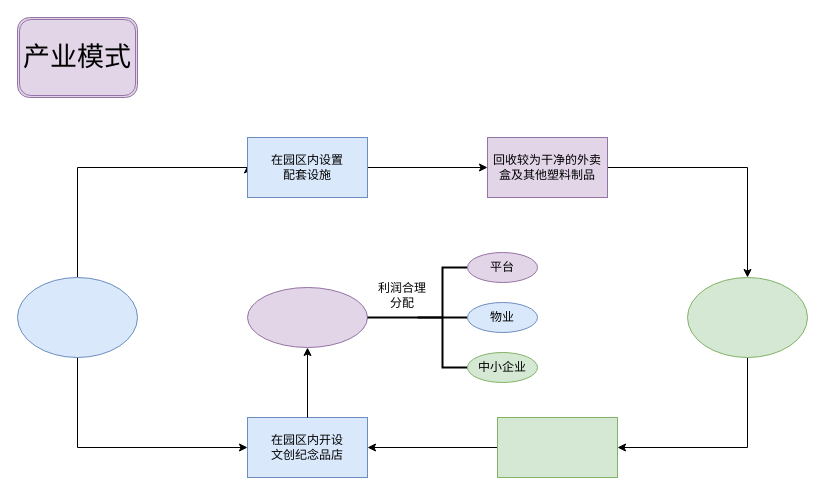
Image size: 825x495. Some labels were removed from this diagram. Each missing label, with the centre of its shape:
企业招标会，平台与中小企业合作: point (747, 317)
园区调查，平台与合适的园区物业合作: point (77, 317)
生产文创周边: point (557, 447)
顾客积分兑换 或现金购买周边: point (307, 317)
